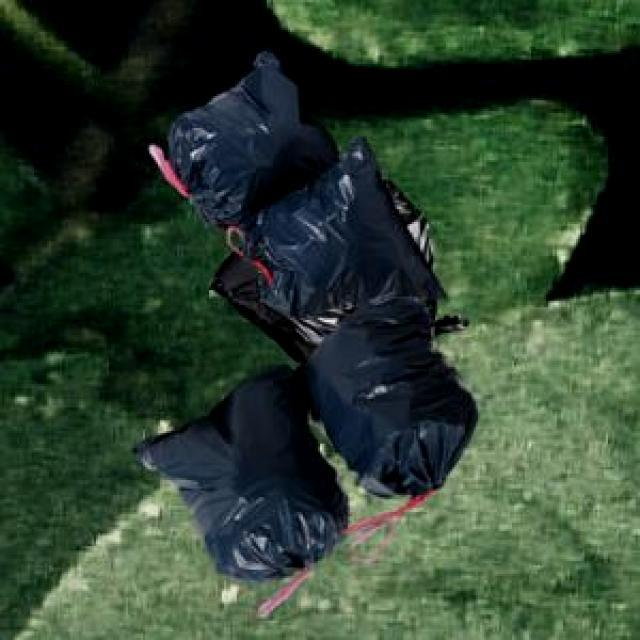Trashbag: (138, 386, 347, 581), (314, 308, 479, 494), (255, 172, 422, 322), (158, 66, 315, 212)
